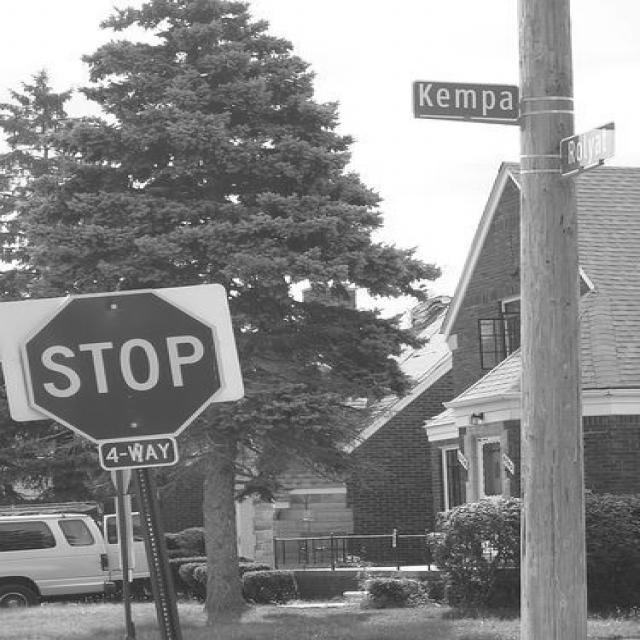pole: (497, 1, 609, 639), (132, 467, 184, 639), (106, 470, 136, 635)
truck: (0, 498, 147, 608)
